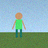person: (12, 12, 25, 37)
